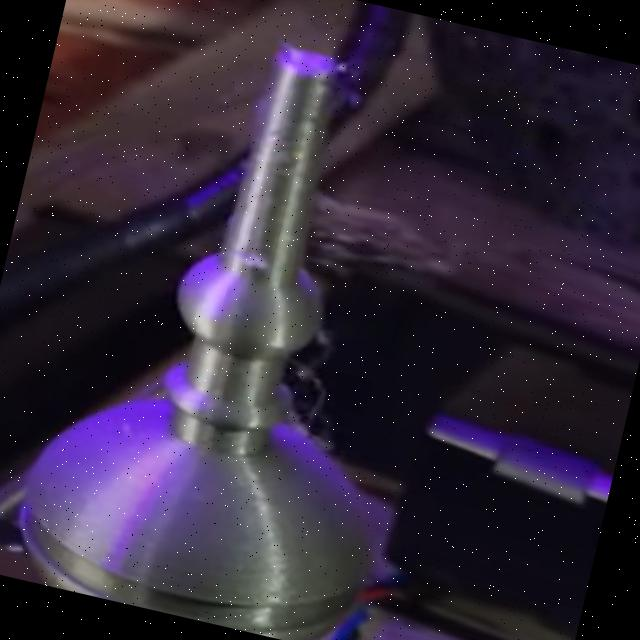stringing: (284, 190, 447, 300)
